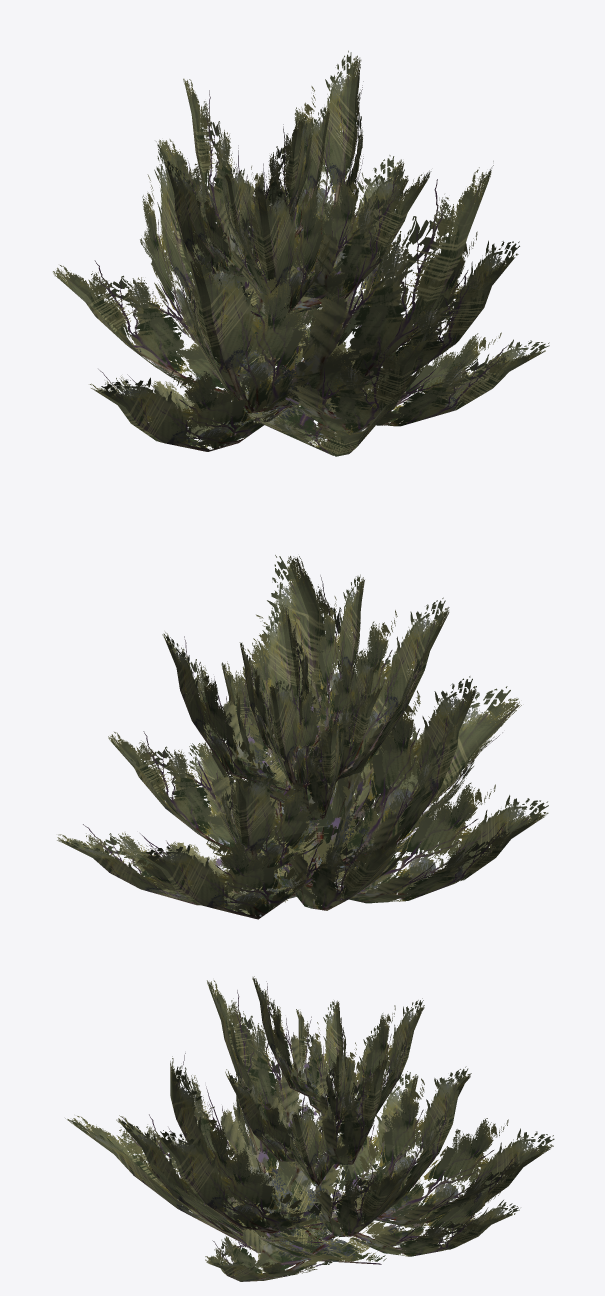
File: bush.fbx
3 renders of one model, top to bottom at view 1: azimuth 30°, elevation 25°; view 2: azimuth 150°, elevation 25°; view 3: azimuth 270°, elevation 25°, orthographic. The views are drawn at different scales.
Visible parts, largest first — view 1: Single_Sided_Fixed_Bush; view 2: Single_Sided_Fixed_Bush; view 3: Single_Sided_Fixed_Bush.
Part boxes in pixels (x1=…): Single_Sided_Fixed_Bush: x1=53, y1=50, x2=549, y2=456; Single_Sided_Fixed_Bush: x1=57, y1=555, x2=548, y2=919; Single_Sided_Fixed_Bush: x1=65, y1=976, x2=554, y2=1281.
Bounding box in the file's own units: 363 × 258 × 468.
Materials: 1 (1 with a texture image).
